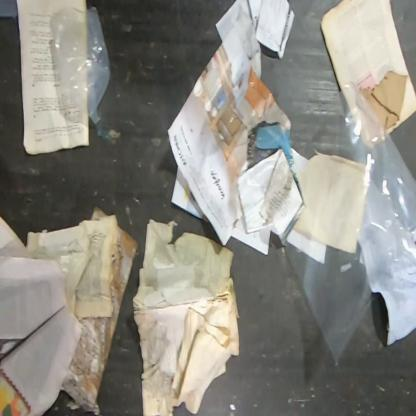cardboard: (61, 224, 141, 416), (90, 204, 109, 221)
soft_plastic: (282, 77, 415, 369), (50, 5, 111, 119), (255, 124, 292, 164)
